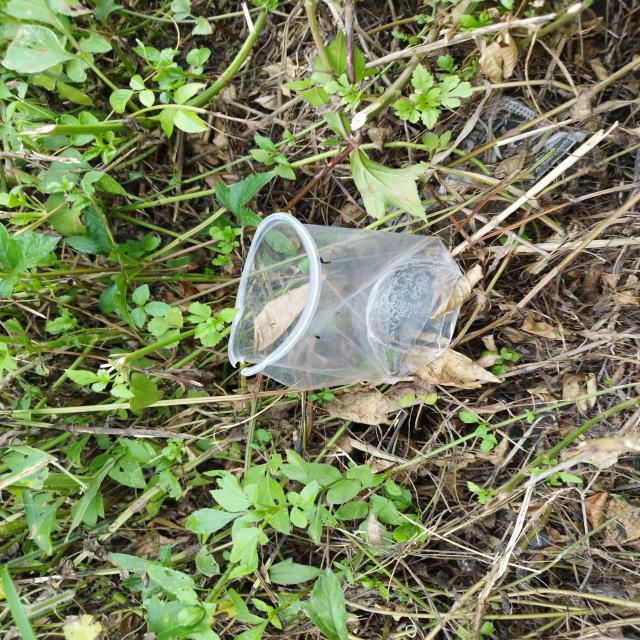plastic glass: (226, 213, 458, 385)
